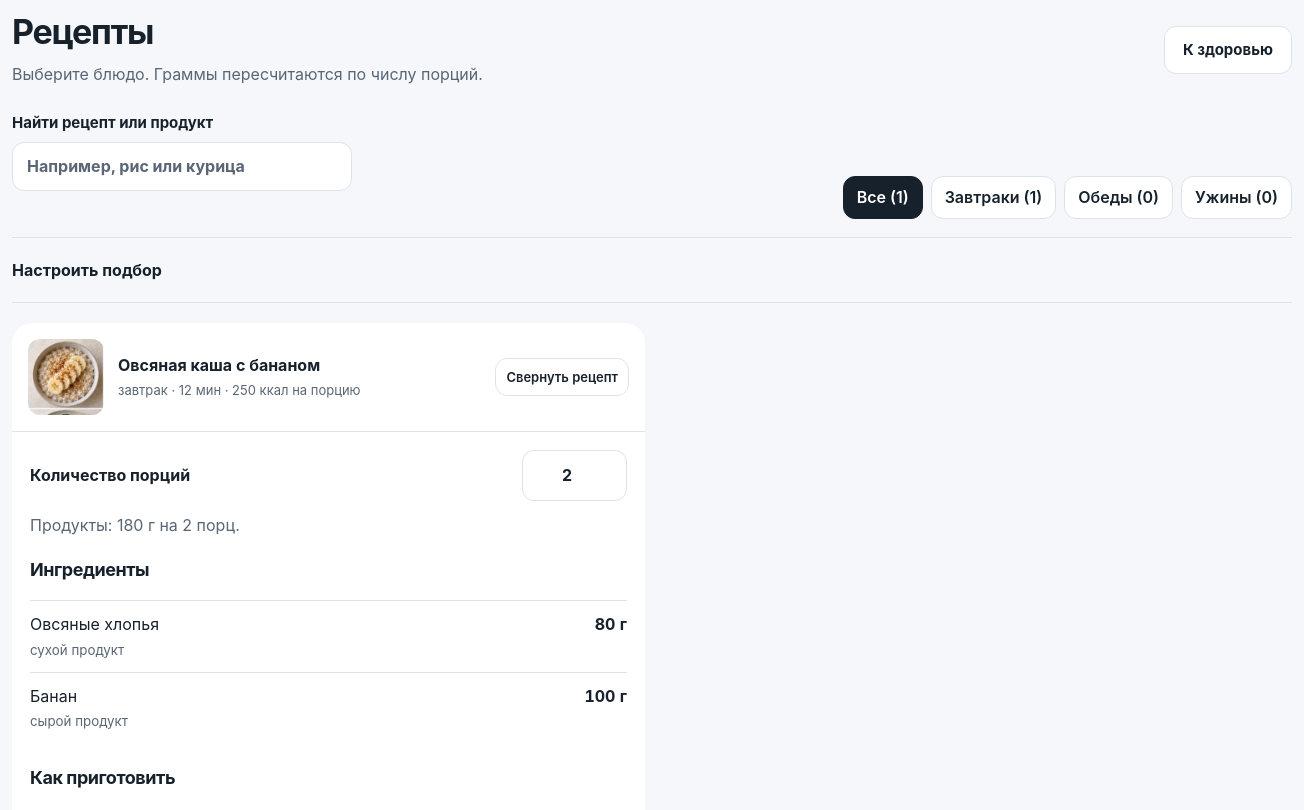
Test: nutrition contains recipes and recalculates ingredient grams for selected portions
Check: the text "Овсяные хлопья" is shown, box [30, 614, 159, 634]
Check: the text "80 г" is shown, box [595, 614, 627, 634]
Replace the text in the number field labelled "Количество порций" with "3" at (574, 476), box [522, 450, 627, 501]
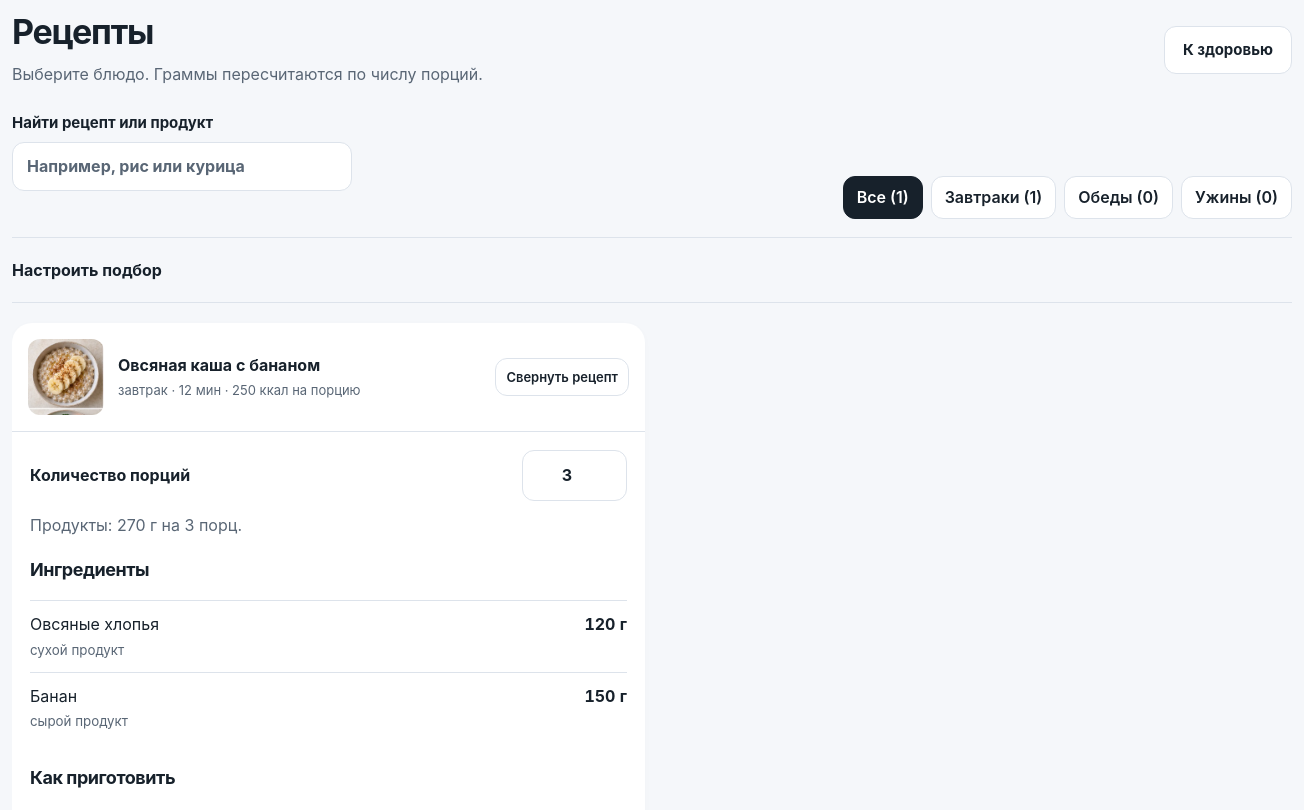
Check: the text "120 г" is shown, box [584, 614, 627, 634]
Check: the text "150 г" is shown, box [584, 686, 627, 706]
Check: the text "Продукты: 270 г на 3 порц." is shown, box [30, 515, 242, 535]
